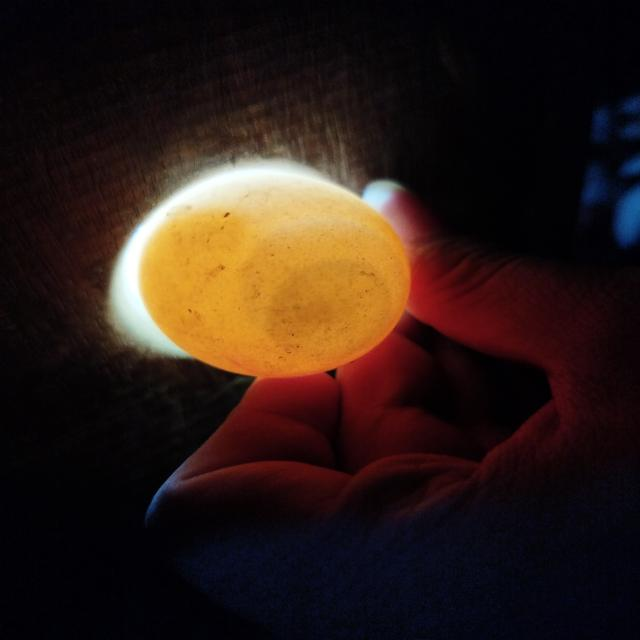Camara de Ar: (267, 259, 389, 358)
